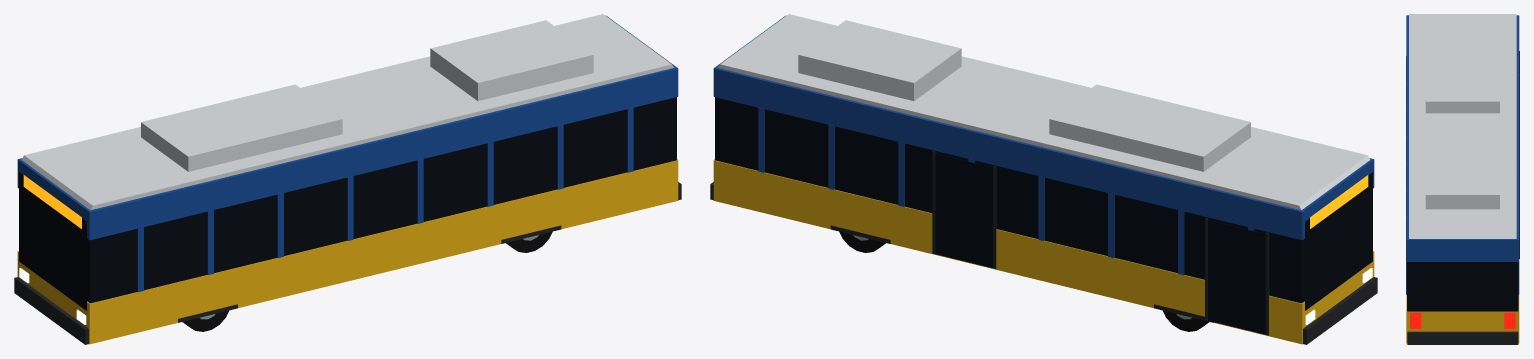
File: bus40-blue.glb
3 renders of one model, left to right at view 1: azimuth 30°, elevation 25°; view 2: azimuth 150°, elevation 25°; view 3: azimuth 270°, elevation 25°, orthographic. The views are drawn at different scales.
Parts seen in each view (by area): view 1: bus40; view 2: bus40; view 3: bus40.
Boxes of the visible parts, <box> form: bus40: <box>14,14,681,344</box>; bus40: <box>710,14,1377,344</box>; bus40: <box>1406,14,1519,344</box>.
Size of the model in its own units: 12.36 by 3.37 by 2.61.
